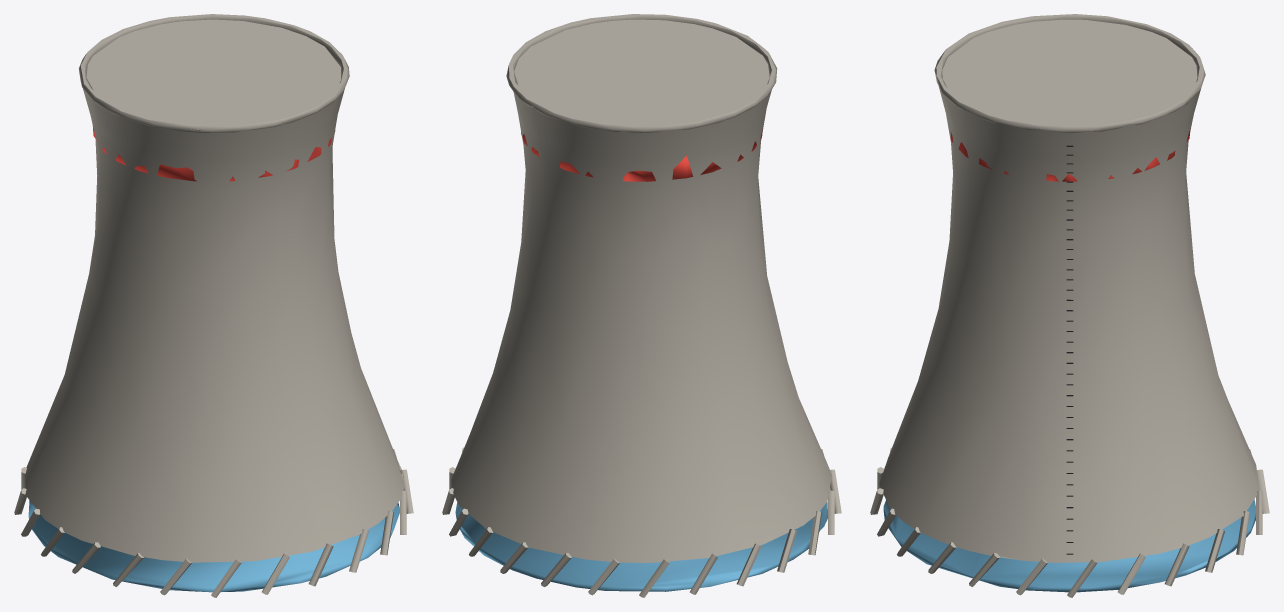
File: cooling_tower.glb
The picture shows the model from 3 angles, left to right: view 1: azimuth 30°, elevation 25°; view 2: azimuth 150°, elevation 25°; view 3: azimuth 270°, elevation 25°; orthographic projection.
Parts seen in each view (by area): view 1: cooling_tower; view 2: cooling_tower; view 3: cooling_tower.
Boxes of the visible parts, x1,y1,x2,y2 form: cooling_tower: (14, 14, 413, 597); cooling_tower: (442, 14, 841, 597); cooling_tower: (870, 14, 1269, 597).
Size of the model in its own units: 46.05 by 56.39 by 46.05.
1 material, 1 textured.
